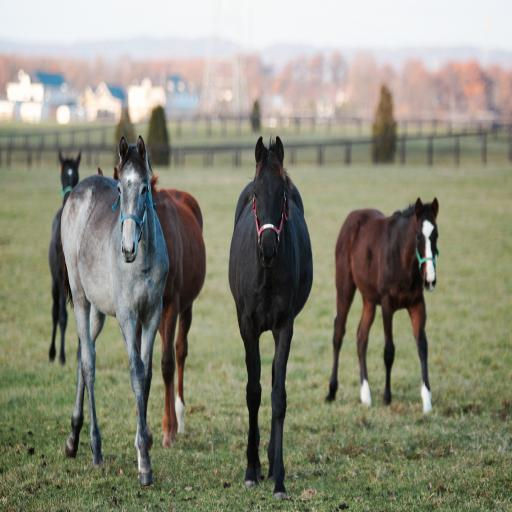horse: (60, 136, 170, 488), (96, 162, 208, 448), (228, 132, 314, 500), (324, 198, 439, 420), (47, 148, 83, 372)
